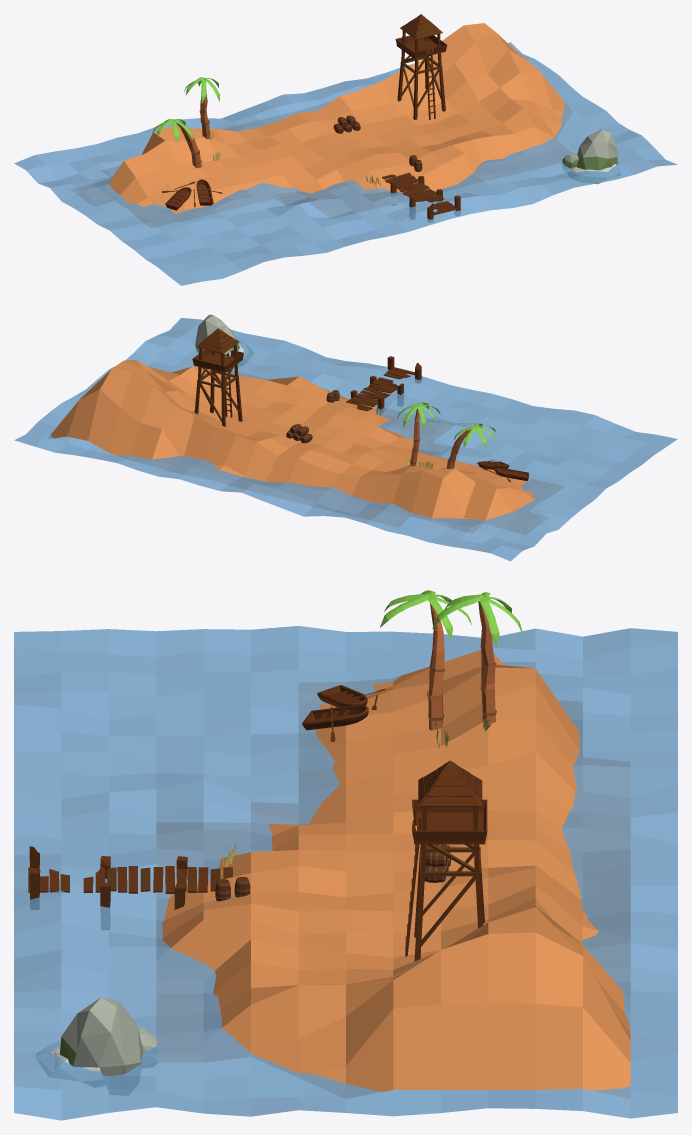
3 views of the same model, one above another, from view 1: azimuth 30°, elevation 25°; view 2: azimuth 150°, elevation 25°; view 3: azimuth 270°, elevation 25° (orthographic). The views are drawn at different scales.
Visible parts, largest first — view 1: Land_0, Water_0, Icosphere_0, Cube.030_0, Cube.027_0, Icosphere_1, Cube.050_0; view 2: Land_0, Water_0, Cube.030_0, Cube.027_0, Icosphere_0, Cube.050_0, Tree2_1; view 3: Water_0, Land_0, Icosphere_0, Cube.030_0, Cube.050_0, Tree1_0, Tree2_0, Icosphere.002_0, Tree2_1, Boat.001_0, Tree1_1, Cube.027_0 (+1 smaller).
Part boxes in pixels (box(x1,y1,x2,y2)): Land_0: box(72, 23, 572, 227); Water_0: box(14, 42, 676, 285); Icosphere_0: box(577, 129, 617, 168); Cube.030_0: box(395, 35, 447, 59); Cube.027_0: box(397, 60, 445, 119); Icosphere_1: box(576, 156, 617, 170); Cube.050_0: box(400, 17, 442, 39); Land_0: box(48, 360, 562, 534); Water_0: box(14, 318, 677, 561); Cube.030_0: box(192, 349, 243, 372); Cube.027_0: box(194, 372, 242, 426); Icosphere_0: box(195, 314, 235, 353); Cube.050_0: box(196, 331, 239, 353); Tree2_1: box(397, 402, 440, 429); Water_0: box(14, 626, 677, 1120); Land_0: box(157, 650, 630, 1098); Icosphere_0: box(61, 997, 143, 1095); Cube.030_0: box(412, 799, 487, 844); Cube.050_0: box(418, 765, 482, 806); Tree1_0: box(426, 603, 444, 730); Tree2_0: box(478, 601, 496, 726); Icosphere.002_0: box(36, 1042, 104, 1086); Tree2_1: box(432, 592, 522, 647); Boat.001_0: box(302, 705, 368, 730); Tree1_1: box(380, 590, 471, 640); Cube.027_0: box(414, 852, 484, 960).
Bounding box in the file's own units: 12 × 2.8 × 7.
